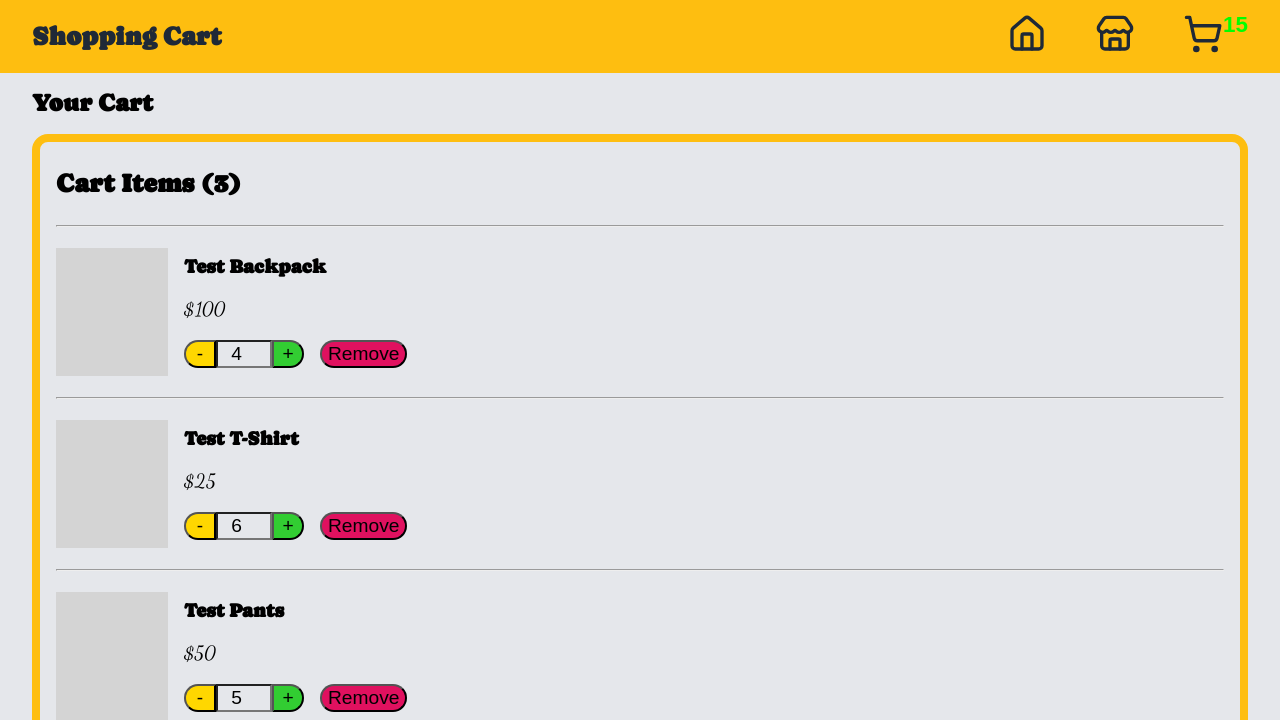
Test case: Testing Cart page › decreaseOrders: should decrement cart total when reduce(-) button is clicked
The image size is (1280, 720).
Click the button named "Reduce Test T-Shirt orders from cart" at (200, 526), box [184,512,216,540]
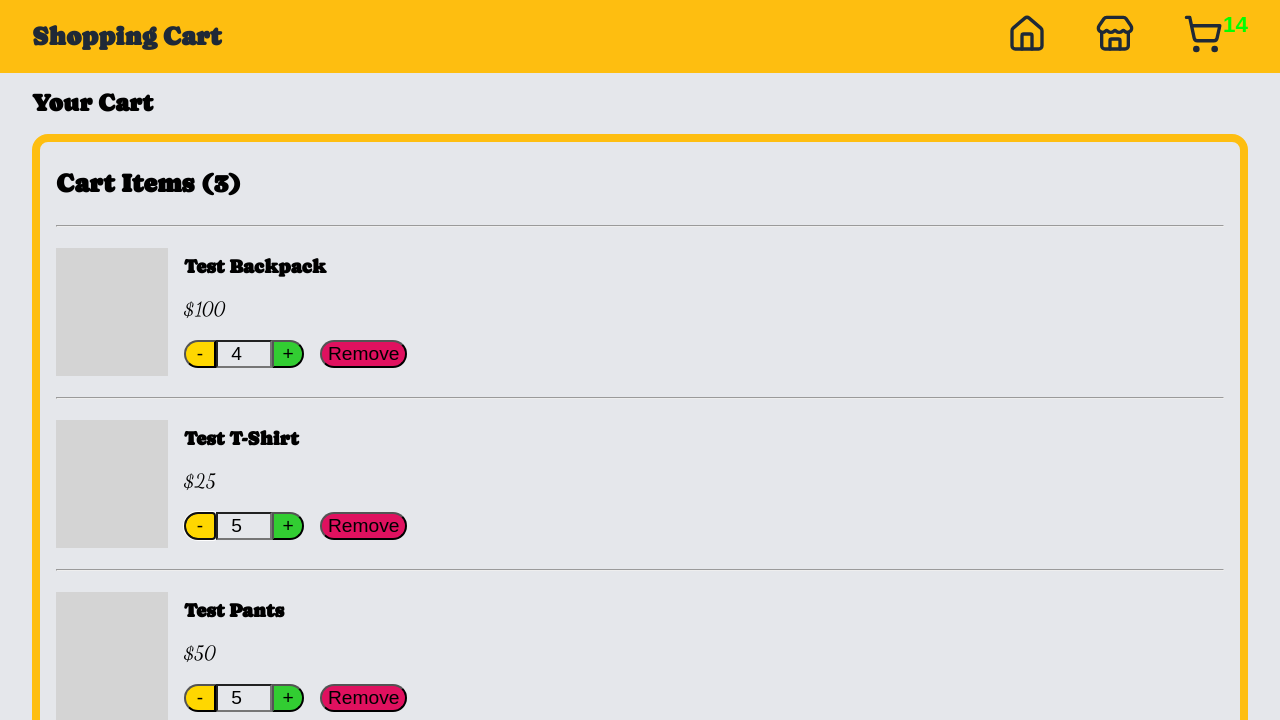
Expected: the message reads "14", [1223,11,1248,36]
